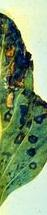Tomato leaf bacterial spot: (0, 5, 47, 212)
